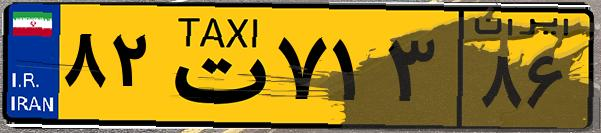1: (330, 28, 385, 110)
2: (110, 28, 158, 98)
3: (385, 28, 445, 110)
6: (525, 38, 570, 115)
7: (270, 28, 330, 110)
8: (57, 26, 110, 100), (475, 38, 525, 113)
ت: (158, 12, 270, 120)
